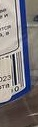1d: (9, 51, 24, 87)
